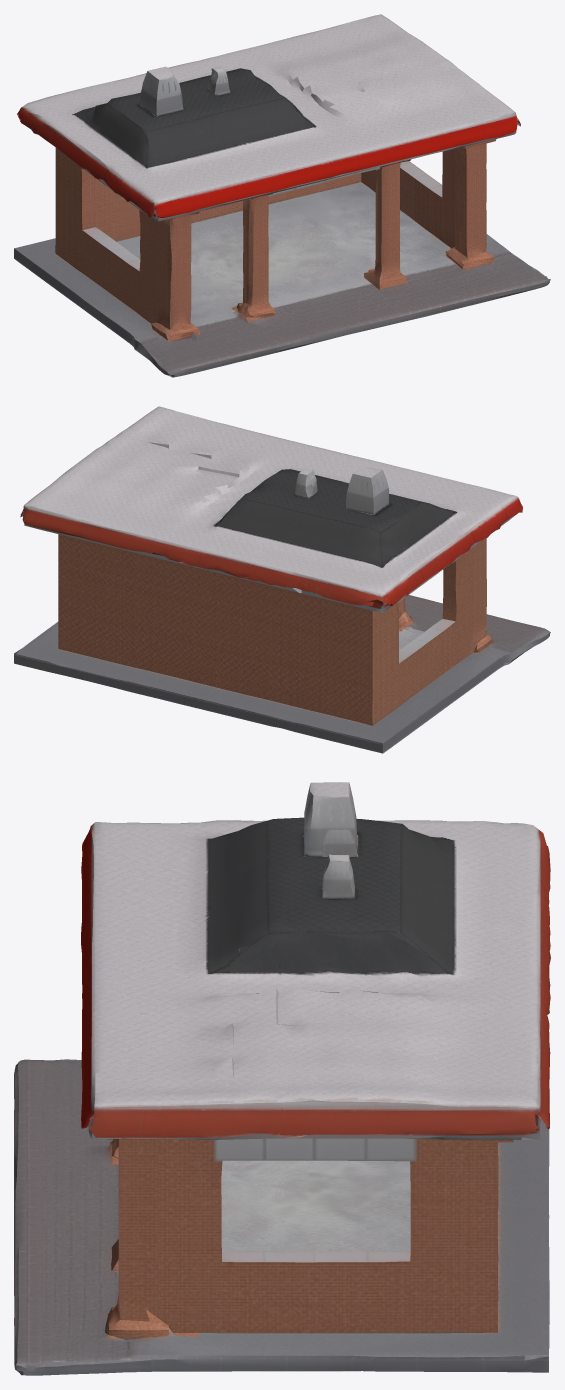
Rendered from Meshy_AI_Brick_Pavilion_Shelte_0831085043_texture.fbx.
The picture shows the model from 3 angles, top to bottom: view 1: azimuth 30°, elevation 25°; view 2: azimuth 150°, elevation 25°; view 3: azimuth 270°, elevation 25°; orthographic projection. The views are drawn at different scales.
Parts seen in each view (by area): view 1: Mesh0; view 2: Mesh0; view 3: Mesh0.
Boxes of the visible parts, x1,y1,x2,y2 form: Mesh0: (14,14,550,377); Mesh0: (14,406,550,753); Mesh0: (14,782,550,1375).
Bounding box in the file's own units: 190 × 102 × 140.
1 material, 1 textured.
